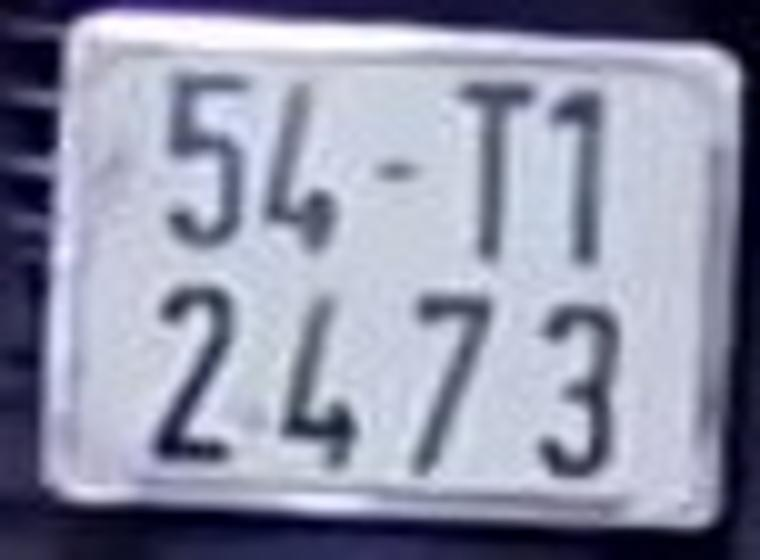-: (371, 162, 426, 188)
1: (553, 78, 614, 281)
2: (141, 282, 240, 471)
3: (539, 305, 618, 472)
4: (274, 295, 365, 470), (264, 77, 342, 259)
5: (166, 68, 255, 248)
7: (408, 289, 497, 482)
T: (453, 75, 540, 261)
